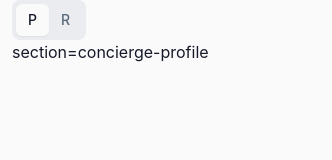
Test: hotel profile tabs › keeps section when changing tab
Later steps or results of the test are not shown.
Press the mouse on the tab "R" at (66, 20), box x1=49 y1=4 x2=82 y2=36
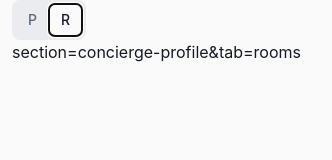
Expected: the text with test id "q" reads "section=concierge-profile&tab=rooms", x1=12 y1=42 x2=301 y2=62
